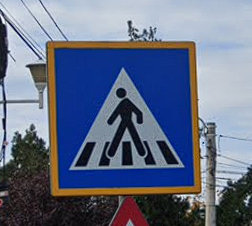trecere_pietoni: (37, 37, 205, 195)
